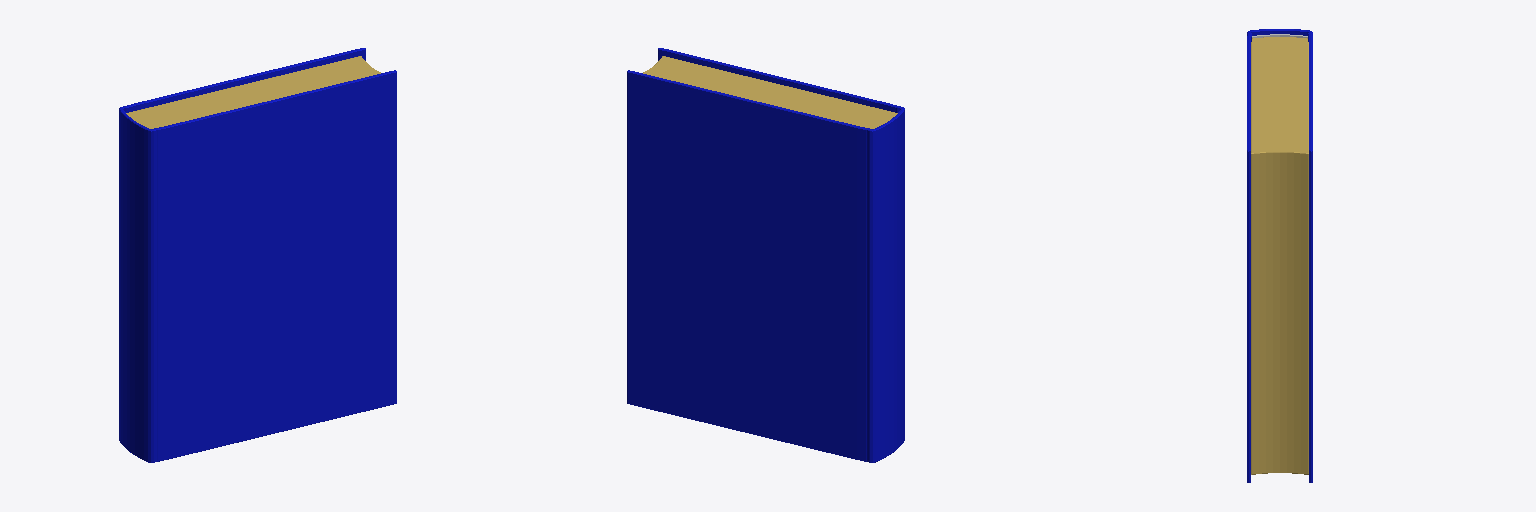
The model's file is bluebook.obj.
3 views of the same model, side by side, from view 1: azimuth 30°, elevation 25°; view 2: azimuth 150°, elevation 25°; view 3: azimuth 270°, elevation 25° (orthographic).
Visible parts, largest first — view 1: pages_pages; view 2: pages_pages; view 3: pages_pages.
Boxes of the visible parts, box(x1,y1,x2,y2) form: pages_pages: box(119, 48, 396, 462); pages_pages: box(627, 48, 904, 462); pages_pages: box(1247, 29, 1312, 482).
Bounding box in the file's own units: 0.66 × 0.8355 × 0.1517.